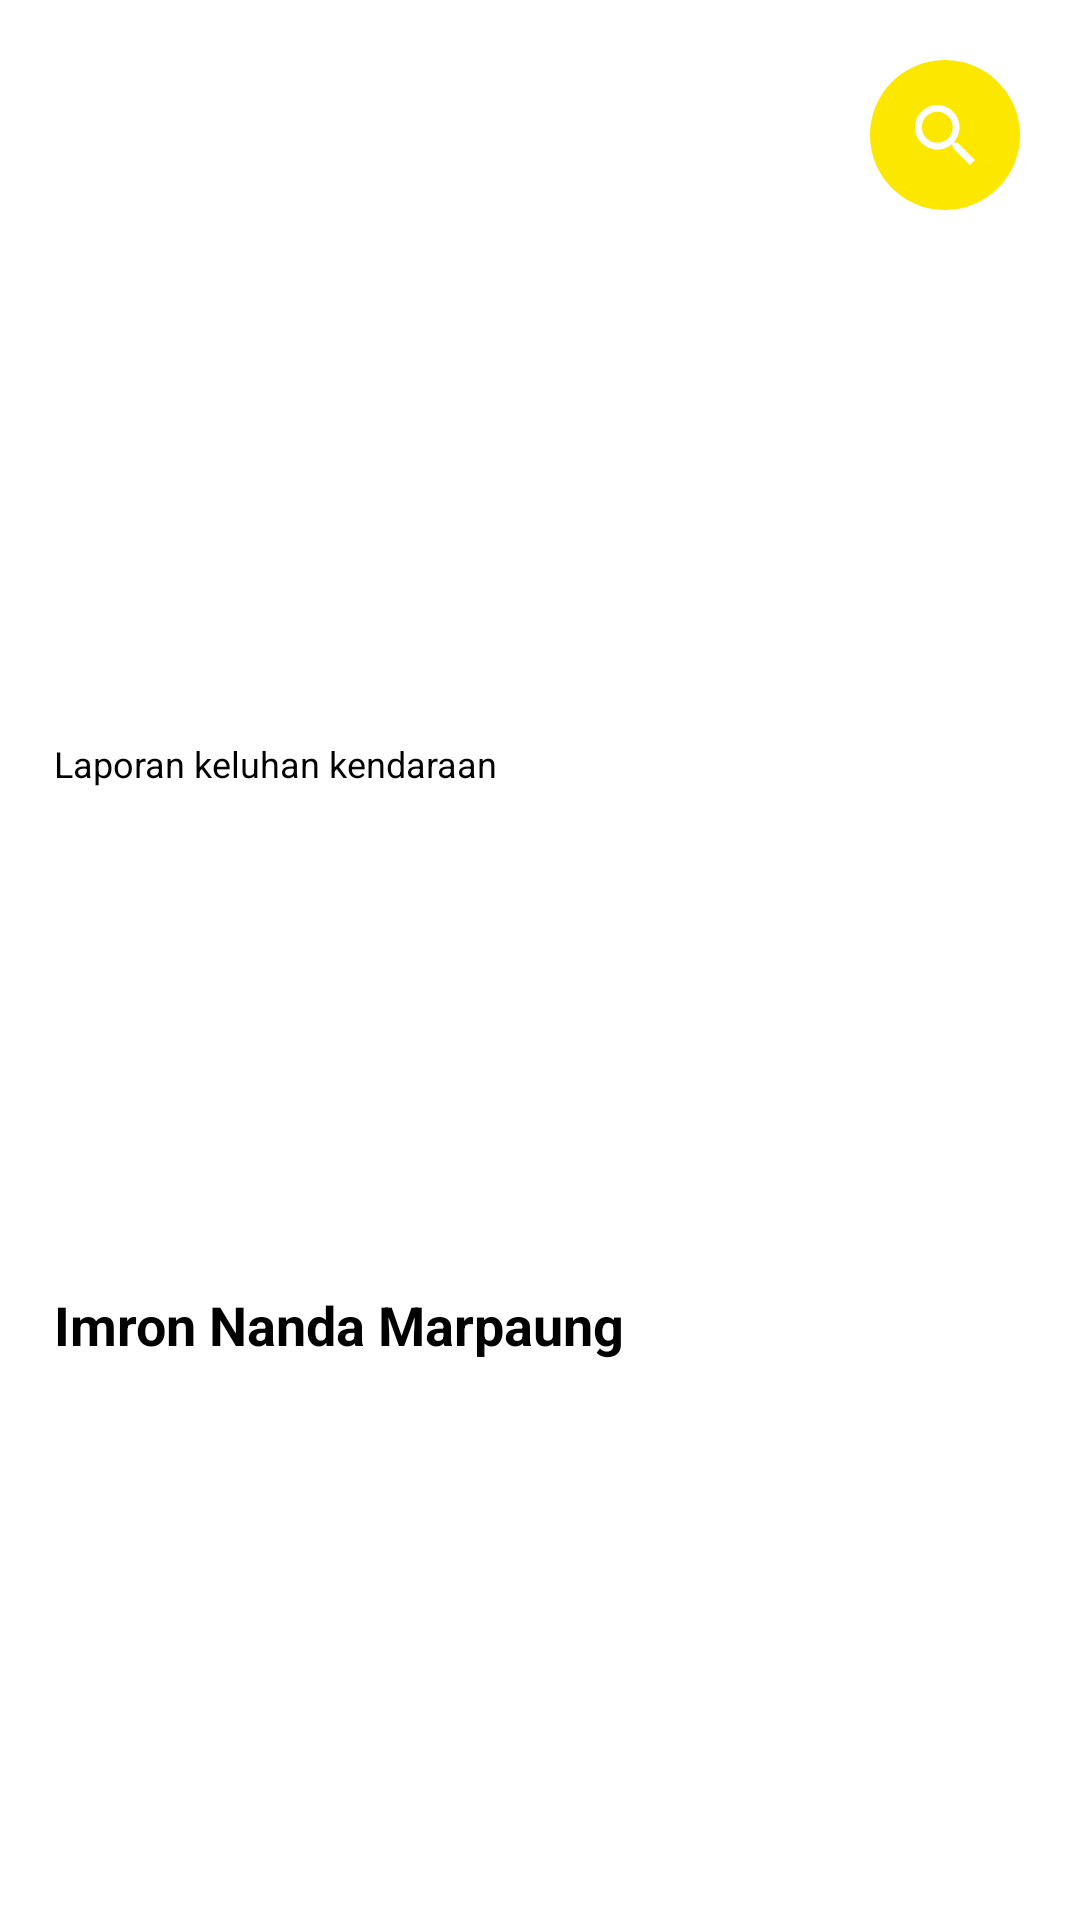

Icon click points for this 1080px×1920px phone screenshot, format [x,y]:
search circle: [945,135]
